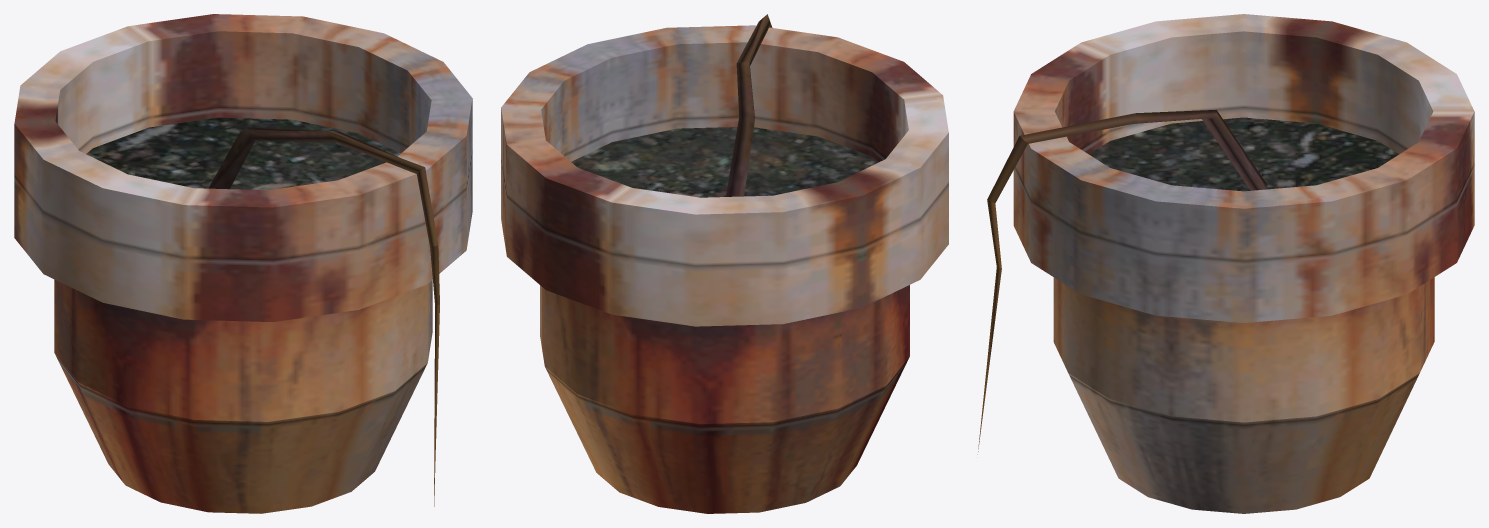
File: frn_quest_fs_plant_dead_l0.fbx
The picture shows the model from 3 angles, left to right: view 1: azimuth 30°, elevation 25°; view 2: azimuth 150°, elevation 25°; view 3: azimuth 270°, elevation 25°; orthographic projection. The views are drawn at different scales.
Parts seen in each view (by area): view 1: mesh_node; view 2: mesh_node; view 3: mesh_node.
Boxes of the visible parts, x1=… form: mesh_node: x1=14, y1=14, x2=472, y2=513; mesh_node: x1=501, y1=14, x2=948, y2=513; mesh_node: x1=977, y1=14, x2=1474, y2=513.
Size of the model in its own units: 0.637 by 0.5455 by 0.6869.
1 material, 1 textured.
